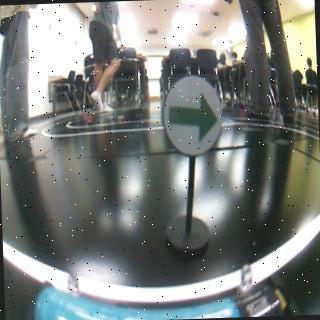right: (160, 74, 220, 152)
